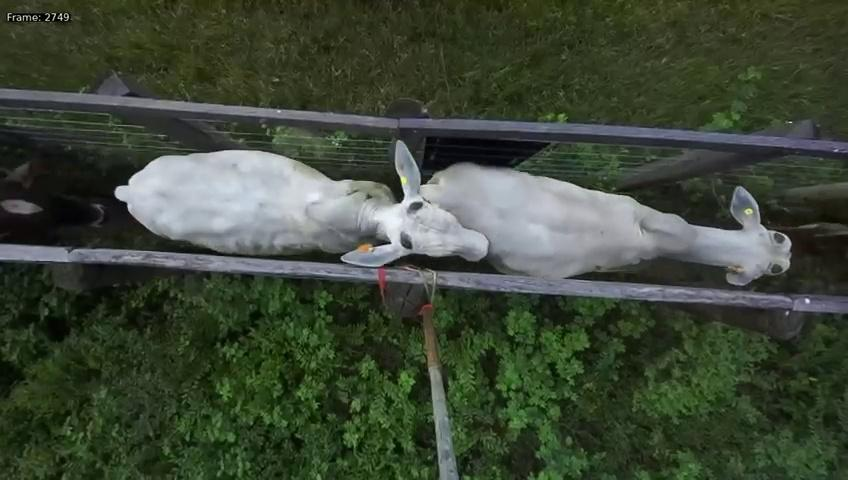cattle: (418, 151, 795, 296), (107, 135, 492, 276)
